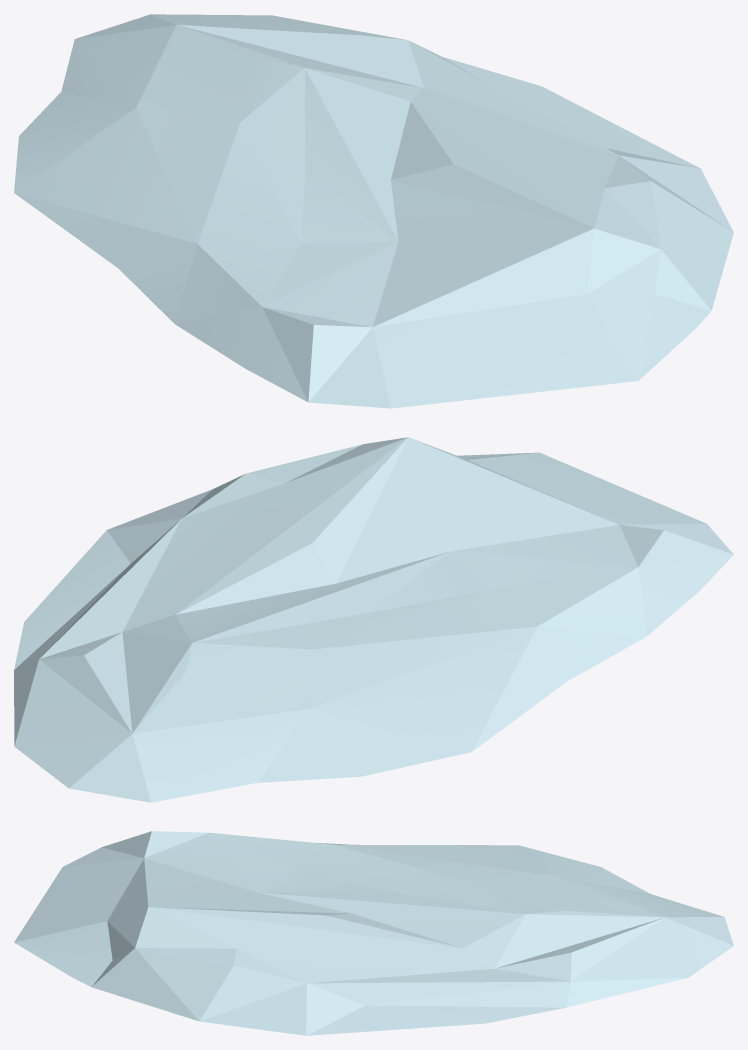
Rendered from Parche_Nieve03.glb.
3 renders of one model, top to bottom at view 1: azimuth 30°, elevation 25°; view 2: azimuth 150°, elevation 25°; view 3: azimuth 270°, elevation 25°, orthographic. The views are drawn at different scales.
Visible parts, largest first — view 1: SM_Env_GrassPatch_03_Snow; view 2: SM_Env_GrassPatch_03_Snow; view 3: SM_Env_GrassPatch_03_Snow.
Part boxes in pixels (x1,y1,x2,y2): SM_Env_GrassPatch_03_Snow: (14,14,733,408); SM_Env_GrassPatch_03_Snow: (14,437,733,802); SM_Env_GrassPatch_03_Snow: (14,831,733,1035).
Size of the model in its own units: 1.11 by 0.1396 by 1.73.
Materials: 1 (1 with a texture image).
